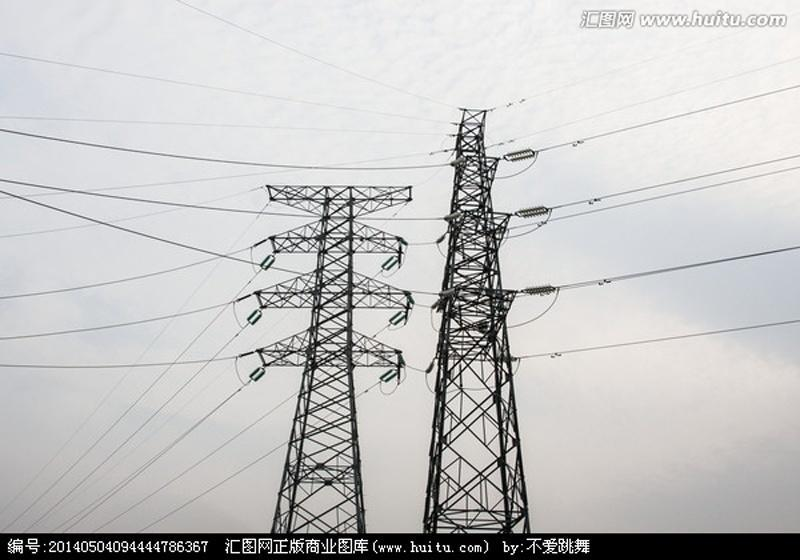power_tower: (233, 182, 418, 534), (423, 109, 556, 532)
